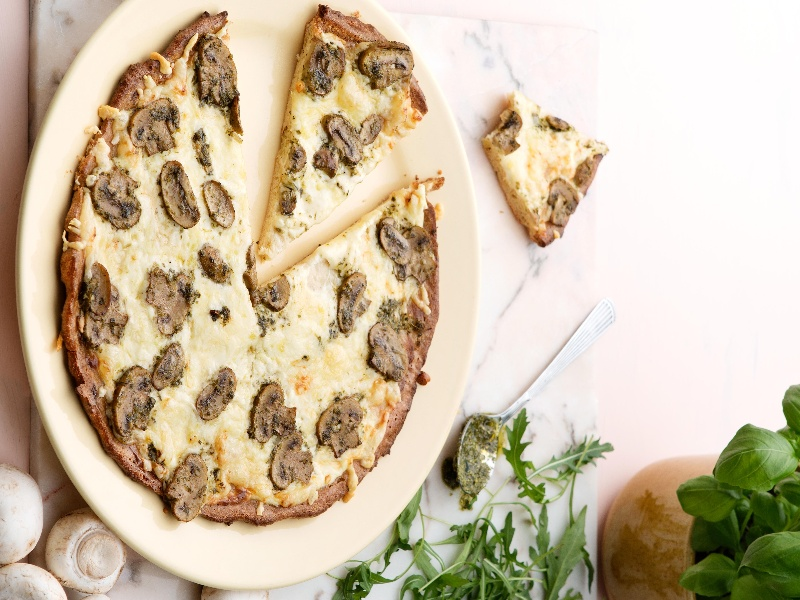champignon: (152, 450, 222, 529), (140, 265, 204, 341), (104, 364, 156, 447), (350, 36, 424, 93), (86, 165, 143, 239), (148, 158, 202, 234), (310, 114, 368, 182), (123, 97, 187, 158), (243, 381, 302, 447), (264, 430, 319, 495), (314, 392, 367, 458), (329, 267, 376, 340)
